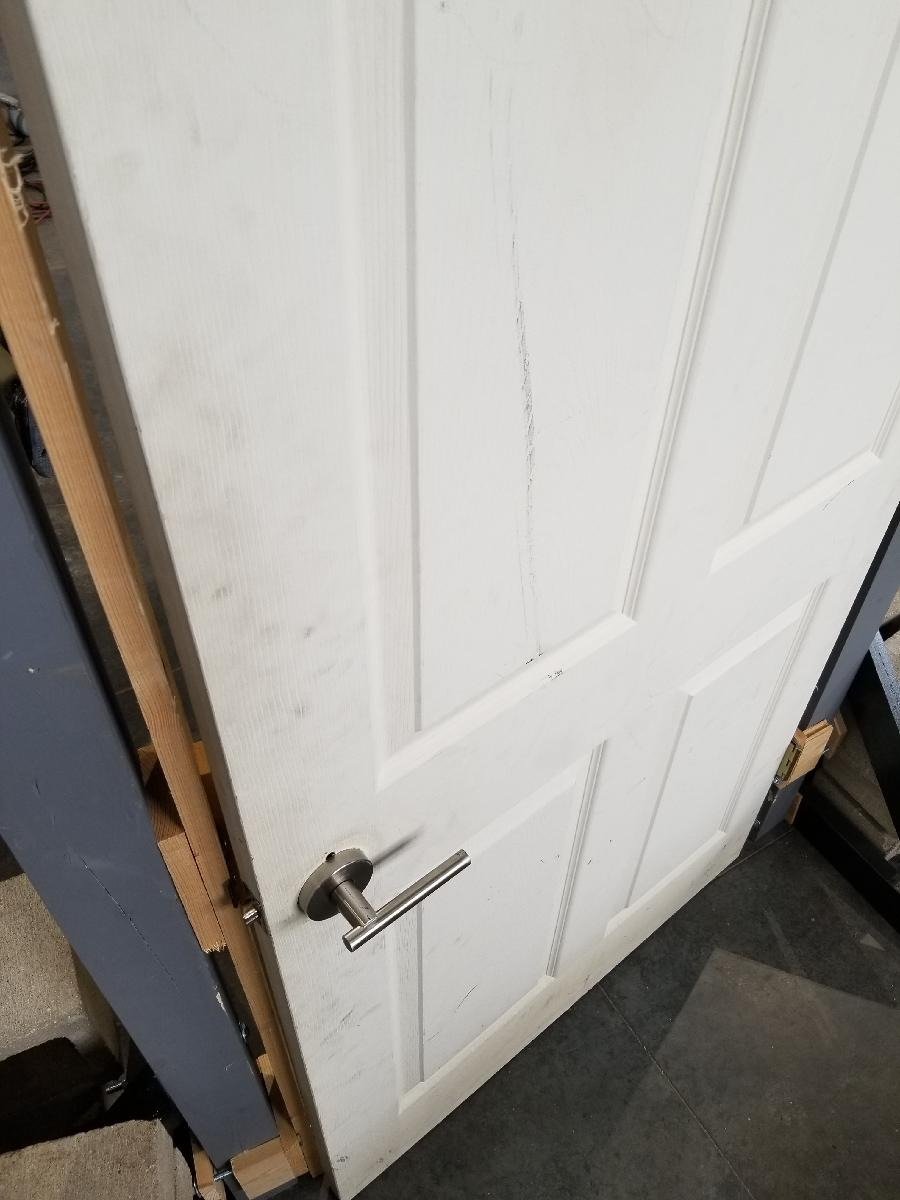doorHandle: (293, 838, 477, 962)
